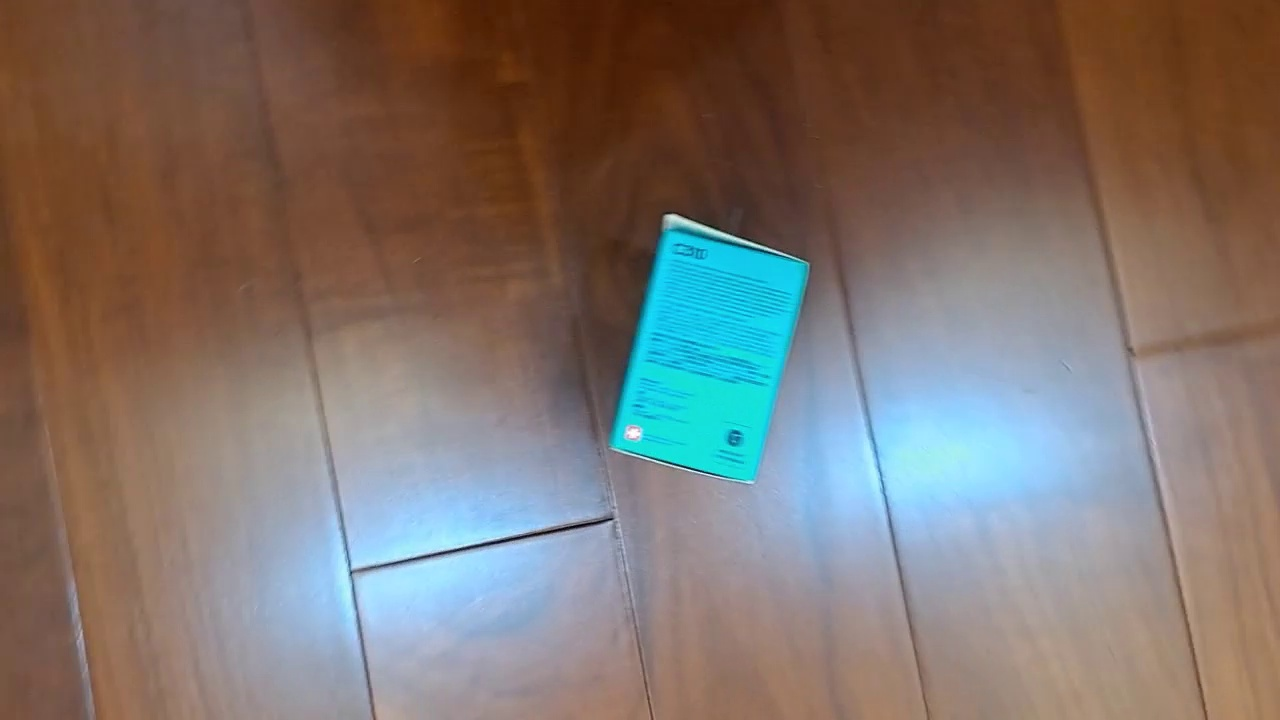webcam: (605, 212, 811, 486)
